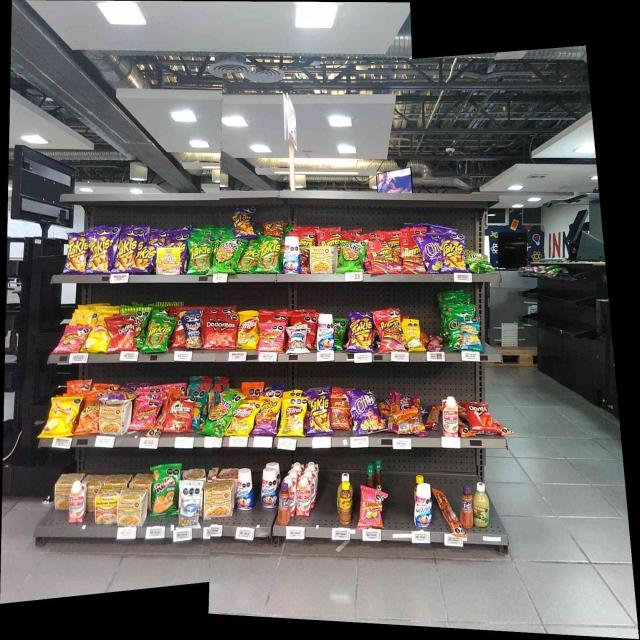bitzEnchilado95: (435, 487, 460, 533)
bokadosCacahuates: (182, 314, 202, 349)
botaneraChilito: (341, 483, 354, 525)
cheetosFlaminHot: (259, 399, 277, 436)
cheetosOriginal: (80, 400, 98, 435)
chipsFuego: (351, 390, 378, 432), (423, 234, 441, 273)
churrumais: (361, 486, 382, 527), (133, 399, 155, 429), (262, 322, 282, 353), (61, 326, 82, 351)
delPrimoSalsa: (475, 485, 488, 525)
doritosNacho: (204, 316, 234, 349), (467, 404, 496, 432), (111, 317, 134, 351)
fritosLimon: (283, 398, 303, 436), (238, 314, 257, 351), (232, 402, 251, 435)
leoCacahuates: (288, 328, 308, 354)
maruchanPollo: (205, 481, 232, 518), (101, 404, 128, 435), (120, 488, 142, 524), (310, 246, 334, 274)
maruchanRes: (96, 488, 116, 526)
nestleCarnation: (443, 397, 459, 437), (296, 478, 312, 516), (70, 483, 84, 523)
nestleLechera: (261, 470, 277, 510), (416, 483, 430, 527), (284, 237, 300, 275), (237, 470, 252, 510), (319, 313, 334, 350)
nissinCamaron: (156, 247, 180, 274)
productoAtras: (395, 411, 424, 435)
rancheritos: (164, 400, 191, 434)
rufflesQueso: (153, 466, 176, 516)
runners: (377, 310, 403, 350), (368, 240, 393, 274), (400, 235, 419, 274)
sabritasOriginal: (50, 396, 75, 437), (89, 324, 108, 351)
salsaBufalo: (363, 460, 383, 481)
semillasCalabaza: (406, 318, 425, 352)
tajinDulce: (464, 484, 474, 528), (280, 482, 290, 524)
takisFuego: (309, 389, 332, 434), (442, 236, 467, 272), (351, 312, 372, 352), (89, 232, 109, 273), (68, 233, 86, 273), (117, 231, 133, 271), (233, 208, 253, 236), (136, 246, 154, 273)
takisOriginal: (148, 313, 170, 352), (190, 238, 211, 274), (261, 238, 279, 273), (244, 242, 258, 272)
tostitos: (208, 396, 228, 436), (216, 240, 237, 274), (342, 240, 364, 272)
